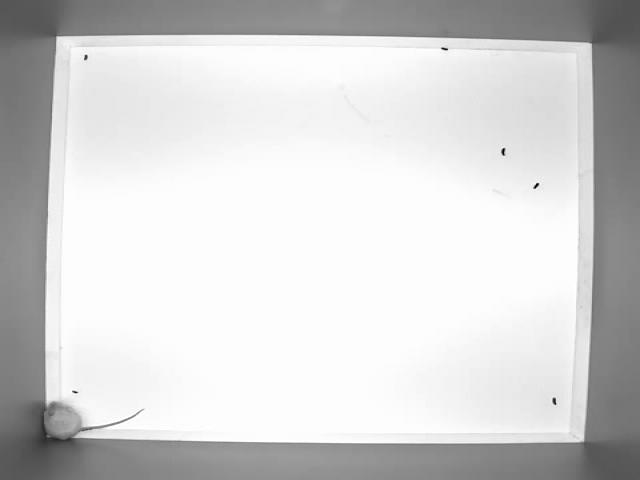Tikus: (46, 401, 149, 440)
